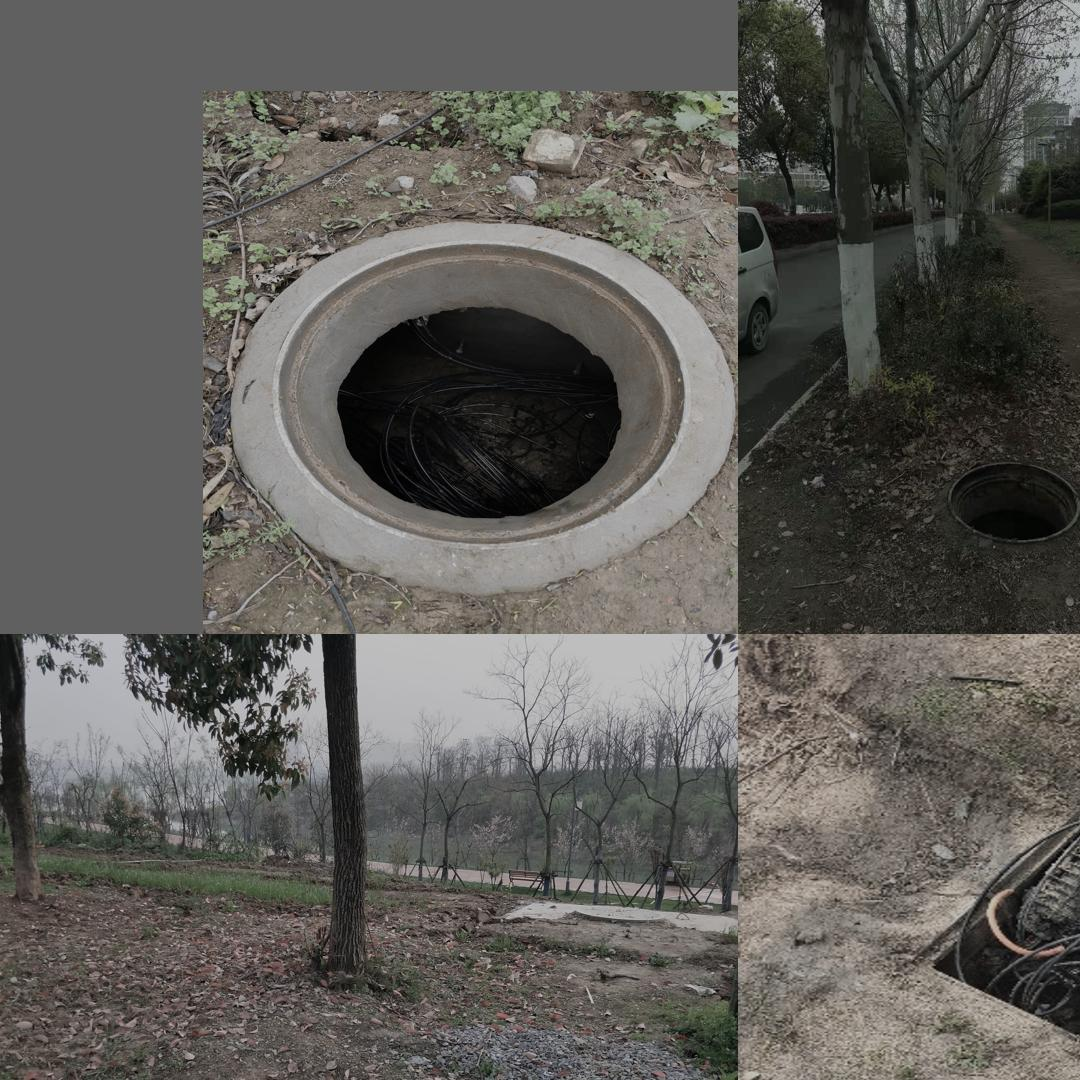lose: (250, 227, 663, 544), (910, 779, 1080, 1040), (946, 459, 1080, 544)
